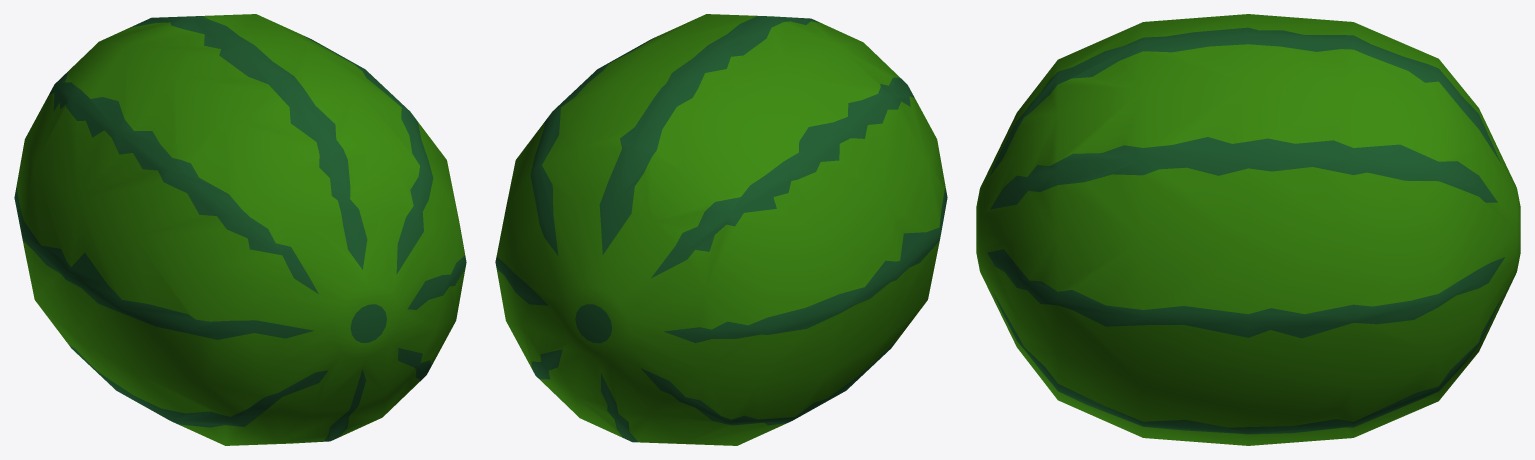
The model's file is watermelon.fbx.
3 views of the same model, side by side, from view 1: azimuth 30°, elevation 25°; view 2: azimuth 150°, elevation 25°; view 3: azimuth 270°, elevation 25° (orthographic). The views are drawn at different scales.
Visible parts, largest first — view 1: Cylinder; view 2: Cylinder; view 3: Cylinder.
Boxes of the visible parts, x1=… form: Cylinder: x1=14, y1=14, x2=466, y2=445; Cylinder: x1=495, y1=14, x2=947, y2=445; Cylinder: x1=976, y1=14, x2=1520, y2=445.
Bounding box in the file's own units: 182 × 182 × 229.
